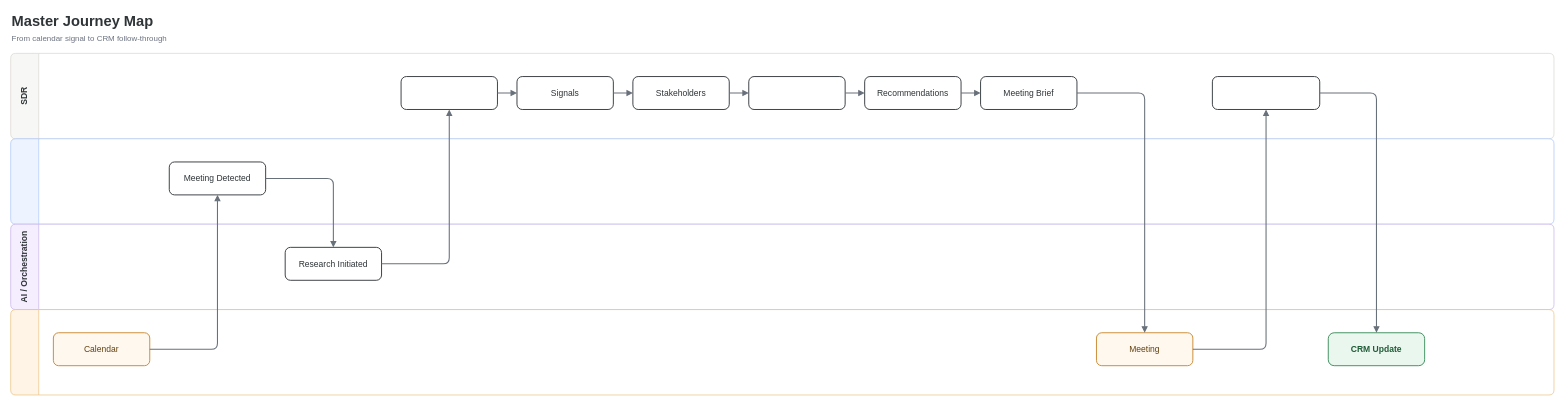
Some shapes in this 1565 by 406 pixel diagram are drawn without their labels. The shapes that lost their labels are listed below. From the top down, each one's box as (x1, y1, x2, y2) in pixels, then its label:
(400, 76, 498, 110): Overview
(748, 76, 845, 110): Discovery Questions
(1212, 76, 1320, 110): Post-Meeting Reflection
(10, 138, 1554, 224): System
(10, 309, 1554, 395): External Data
